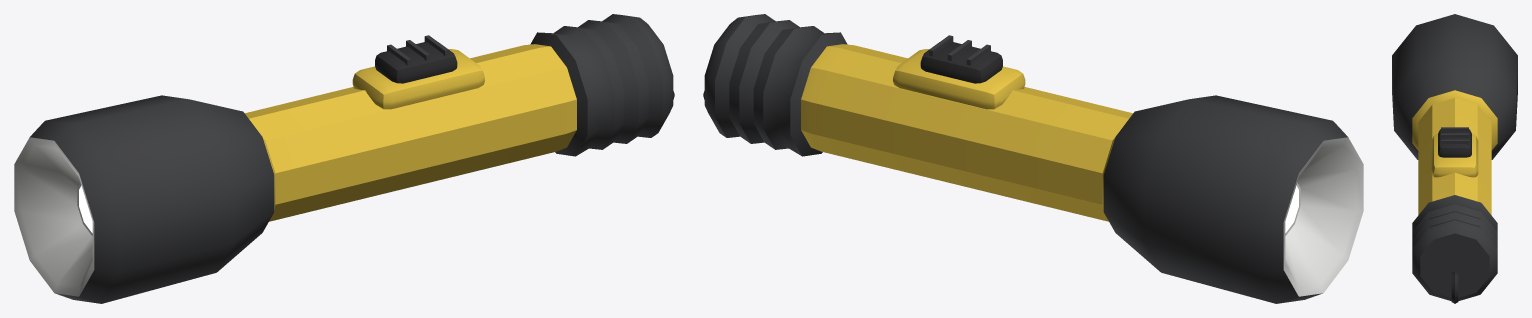
The model's file is Flashlight.fbx.
The picture shows the model from 3 angles, left to right: view 1: azimuth 30°, elevation 25°; view 2: azimuth 150°, elevation 25°; view 3: azimuth 270°, elevation 25°; orthographic projection. The views are drawn at different scales.
Parts seen in each view (by area): view 1: Flashlight_Mesh; view 2: Flashlight_Mesh; view 3: Flashlight_Mesh.
Part boxes in pixels (bbox=[...]): Flashlight_Mesh: bbox=[14, 14, 674, 303]; Flashlight_Mesh: bbox=[703, 14, 1363, 303]; Flashlight_Mesh: bbox=[1392, 14, 1517, 303].
Size of the model in its own units: 0.2298 by 0.062 by 0.059.
